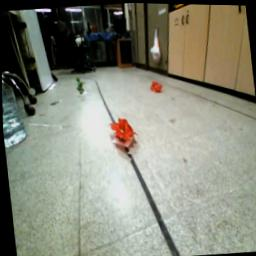herb: (74, 76, 87, 94)
wild: (108, 115, 139, 142), (150, 79, 165, 92)
